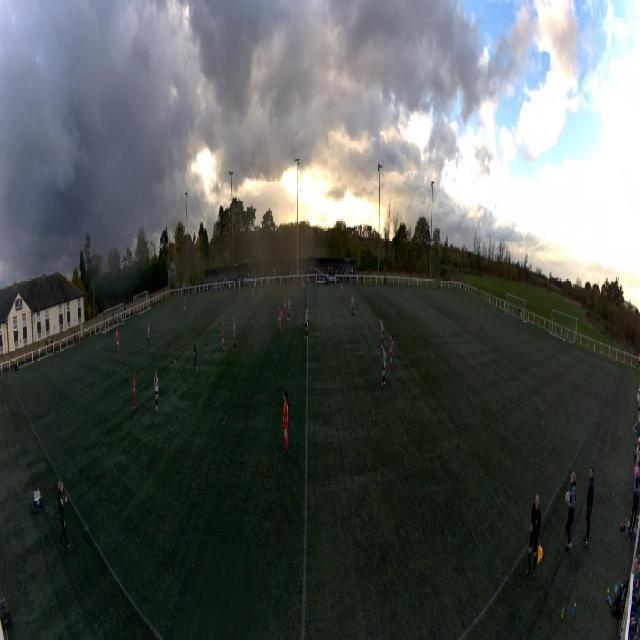ball: (174, 360, 176, 364)
player: (283, 389, 289, 451), (153, 369, 159, 410), (381, 343, 386, 388), (378, 317, 384, 345), (132, 372, 136, 410), (389, 335, 393, 373), (304, 310, 309, 339), (221, 319, 225, 351), (193, 339, 197, 371), (278, 305, 282, 336), (233, 317, 236, 354), (351, 294, 355, 320), (283, 295, 287, 320), (287, 297, 291, 322), (147, 323, 151, 345), (480, 306, 484, 327), (339, 284, 343, 302), (117, 332, 120, 356), (303, 277, 306, 291), (184, 300, 186, 319), (252, 287, 254, 305), (115, 328, 118, 340), (254, 278, 256, 293)
